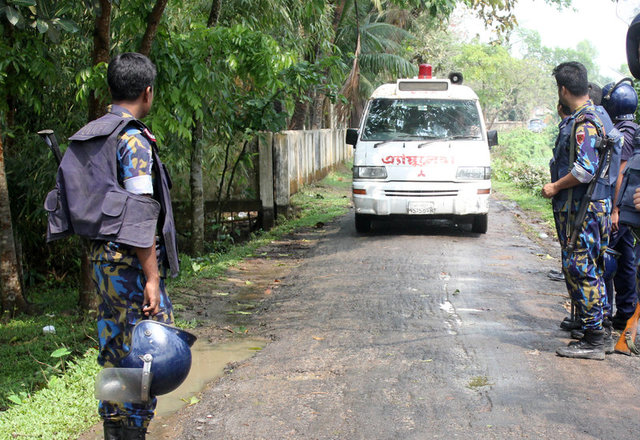ambulance: (343, 62, 500, 236)
